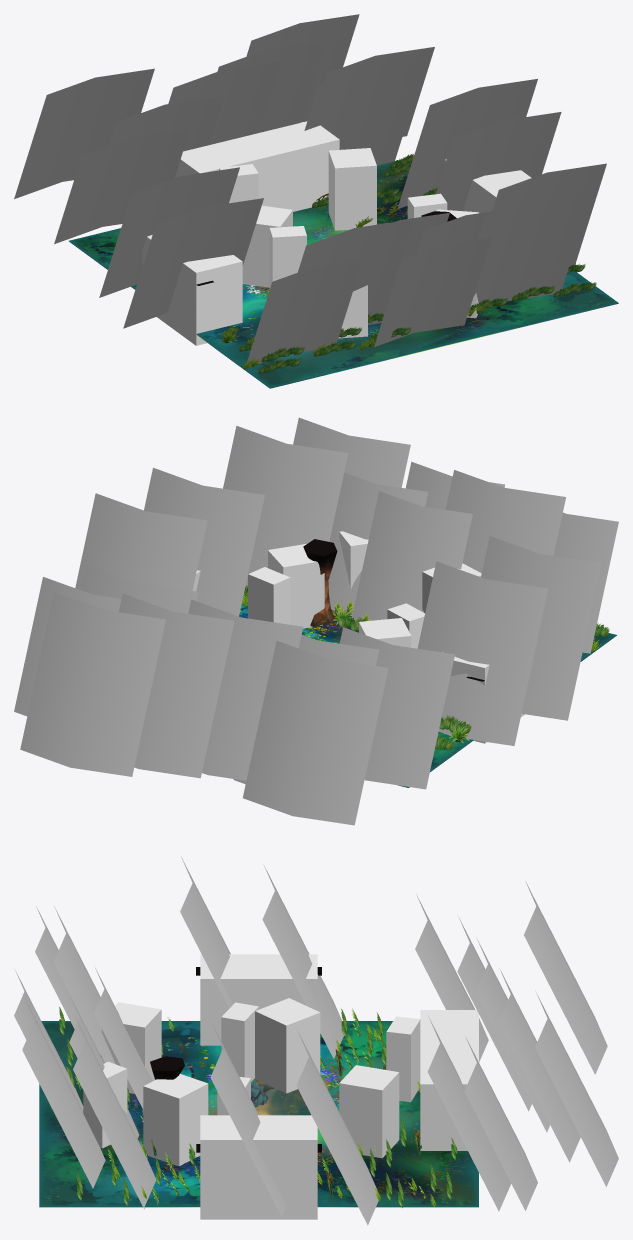
The model's file is FieldDungeon_02_001_Road_T_002.fbx.
The picture shows the model from 3 angles, top to bottom: view 1: azimuth 30°, elevation 25°; view 2: azimuth 150°, elevation 25°; view 3: azimuth 270°, elevation 25°; orthographic projection. The views are drawn at different scales.
Parts seen in each view (by area): view 1: FieldArea_02_001_tree_1_AA, FieldArea_02_001_tree_1_BB, DoorWay_NavMask (1) (×4), FieldDungeon_02_001_Door_Right_001, FieldDungeon_02_001_Door_Left_001, FieldArea_02_001_ground2, FieldDungeon_02_001_Door_Front_001, FieldArea_02_001_kusa, Cube_08, FieldDungeon_02_001_Door_Right_001_shadow, Cube_02, Cube_05 (+5 smaller); view 2: FieldArea_02_001_tree_1_BB, FieldArea_02_001_tree_1_AA, FieldDungeon_02_001_Door_Right_001, FieldDungeon_02_001_Door_Front_001, FieldDungeon_02_001_Door_Left_001, Cube_07, Cube_04, FieldArea_02_001_kusa, Dungeon_011_Object_010, FieldArea_02_001_ground2, Cube_02, Cube_03 (+2 smaller); view 3: DoorWay_NavMask (1) (×5), FieldArea_02_001_tree_1_BB, FieldArea_02_001_ground2, FieldArea_02_001_tree_1_AA, FieldDungeon_02_001_Door_Left_001, FieldDungeon_02_001_Door_Right_001, FieldDungeon_02_001_Door_Front_001, Cube_02, Cube_07, Cube_08, FieldArea_02_001_kusa, FieldDungeon_02_001_Door_Right_001_shadow (+7 smaller).
Part boxes in pixels (bbox=[...]): FieldArea_02_001_tree_1_AA: bbox=[246, 163, 606, 367]; FieldArea_02_001_tree_1_BB: bbox=[14, 14, 434, 244]; DoorWay_NavMask (1) (×4): bbox=[142, 121, 531, 345]; FieldDungeon_02_001_Door_Right_001: bbox=[99, 167, 263, 328]; FieldDungeon_02_001_Door_Left_001: bbox=[397, 79, 561, 210]; FieldArea_02_001_ground2: bbox=[69, 160, 618, 388]; FieldDungeon_02_001_Door_Front_001: bbox=[168, 40, 326, 144]; FieldArea_02_001_kusa: bbox=[218, 154, 596, 373]; Cube_08: bbox=[328, 148, 376, 230]; FieldDungeon_02_001_Door_Right_001_shadow: bbox=[131, 284, 269, 363]; Cube_02: bbox=[242, 205, 292, 287]; Cube_05: bbox=[269, 226, 306, 289]; FieldArea_02_001_tree_1_BB: bbox=[14, 564, 454, 825]; FieldArea_02_001_tree_1_AA: bbox=[223, 417, 618, 653]; FieldDungeon_02_001_Door_Right_001: bbox=[417, 536, 601, 745]; FieldDungeon_02_001_Door_Front_001: bbox=[118, 593, 303, 780]; FieldDungeon_02_001_Door_Left_001: bbox=[75, 467, 264, 616]; Cube_07: bbox=[268, 544, 324, 628]; Cube_04: bbox=[248, 567, 290, 624]; FieldArea_02_001_kusa: bbox=[240, 585, 609, 750]; Dungeon_011_Object_010: bbox=[303, 539, 337, 626]; FieldArea_02_001_ground2: bbox=[245, 598, 616, 787]; Cube_02: bbox=[359, 618, 411, 647]; Cube_03: bbox=[339, 531, 368, 588]; DoorWay_NavMask (1) (×5): bbox=[200, 954, 478, 1219]; FieldArea_02_001_tree_1_BB: bbox=[415, 881, 618, 1211]; FieldArea_02_001_ground2: bbox=[39, 1021, 478, 1206]; FieldArea_02_001_tree_1_AA: bbox=[14, 906, 156, 1209]; FieldDungeon_02_001_Door_Left_001: bbox=[210, 1022, 378, 1225]; FieldDungeon_02_001_Door_Right_001: bbox=[180, 856, 346, 1058]; FieldDungeon_02_001_Door_Front_001: bbox=[475, 939, 580, 1162]; Cube_02: bbox=[255, 998, 320, 1093]; Cube_07: bbox=[143, 1074, 208, 1166]; Cube_08: bbox=[339, 1065, 399, 1158]; FieldArea_02_001_kusa: bbox=[59, 1007, 457, 1207]; FieldDungeon_02_001_Door_Right_001_shadow: bbox=[161, 1021, 376, 1082].
Size of what is drawn, in the model's own units: 18.73 by 5.86 by 20.65.
